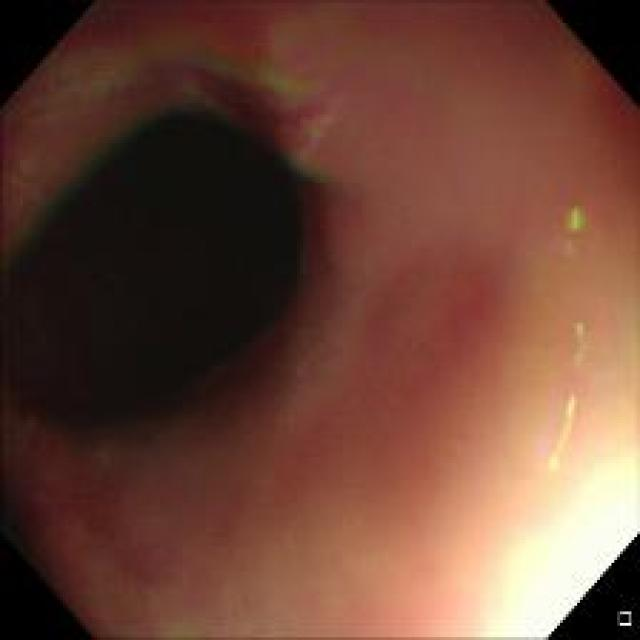blur: (4, 4, 638, 636)
color misalignment: (32, 55, 365, 178), (542, 385, 575, 479), (554, 194, 595, 265), (565, 312, 596, 375)
contrast: (8, 105, 306, 429)
saturation: (495, 468, 635, 635)
